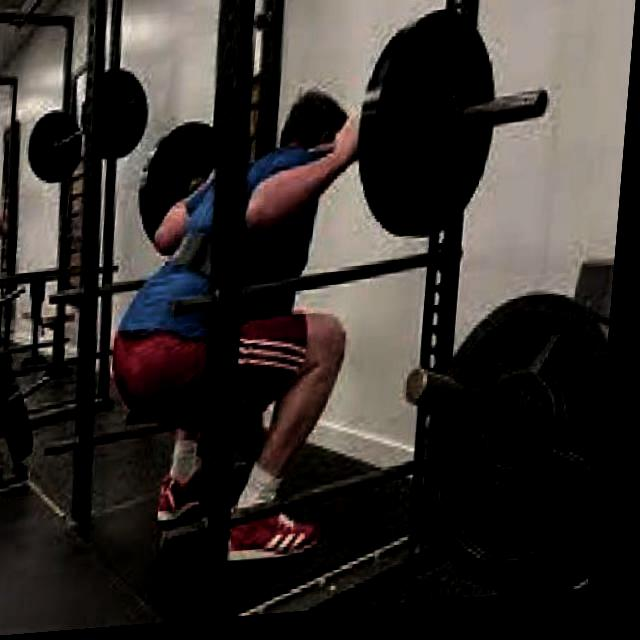barbell: (360, 8, 562, 253)
